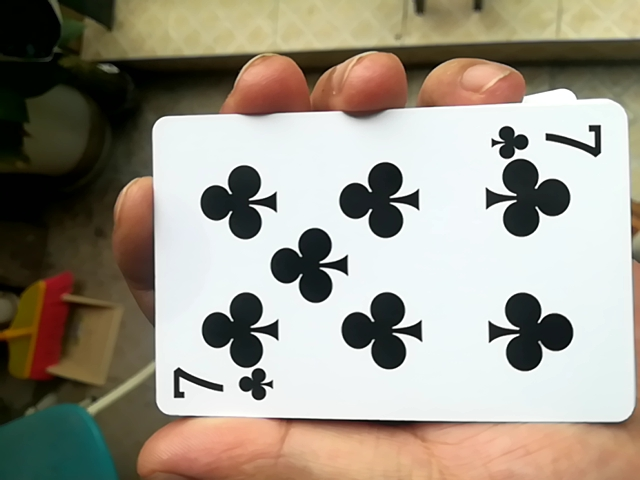mh 7: (133, 100, 629, 431)
